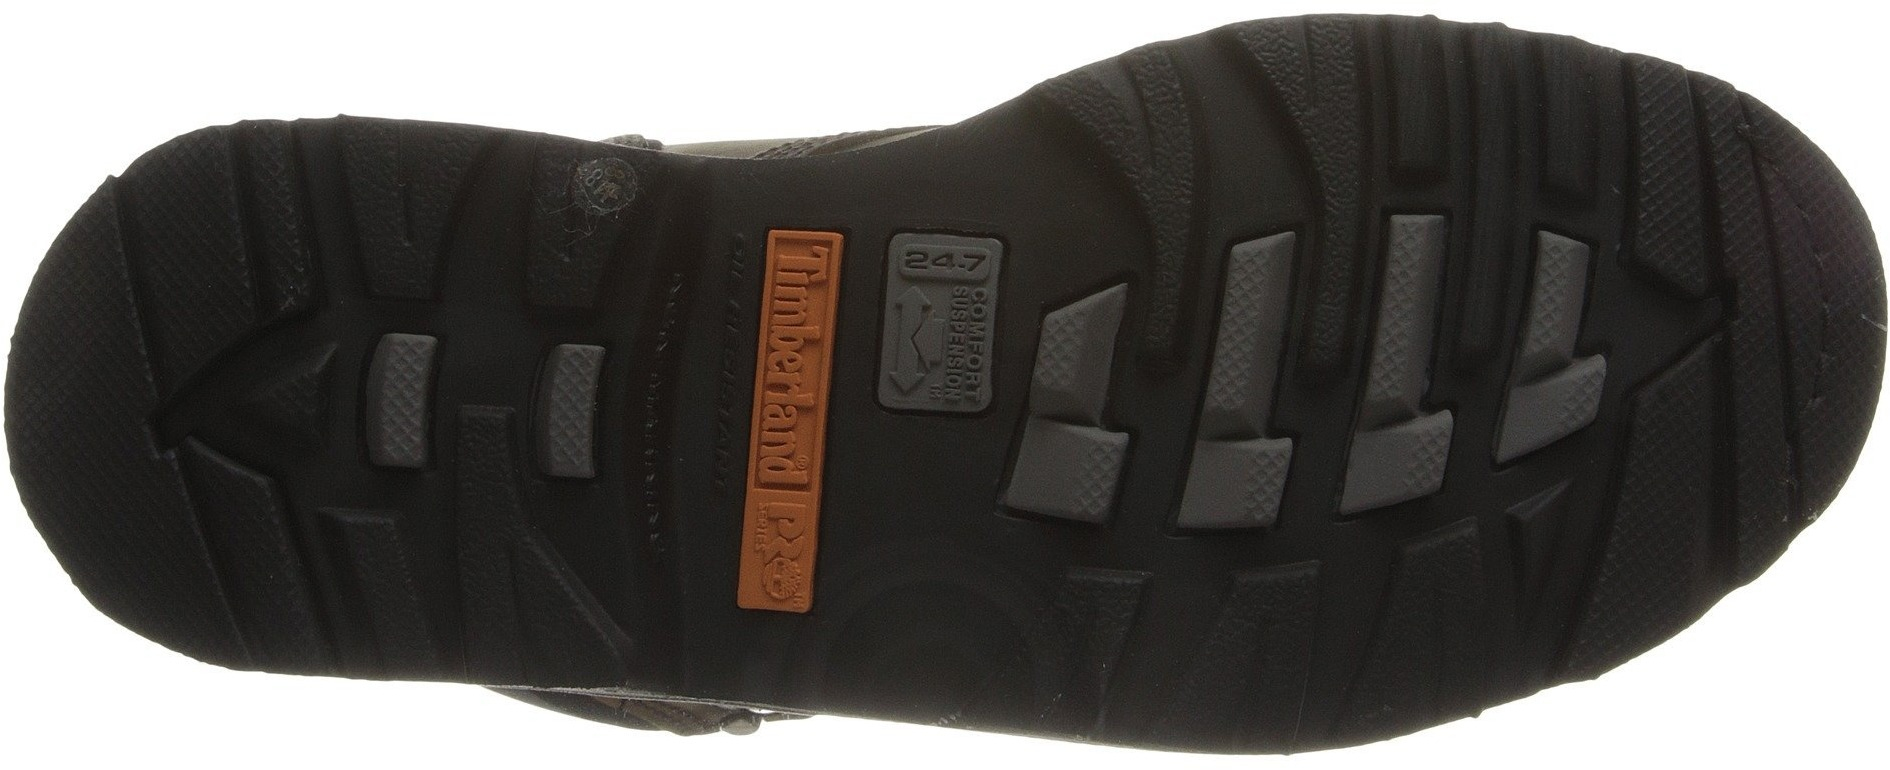chevron: (1145, 542, 1363, 739)
exclude: (620, 155, 774, 696), (434, 681, 839, 764)
other: (69, 201, 265, 384), (128, 484, 319, 649), (1626, 445, 1763, 575), (1732, 312, 1856, 437), (1730, 180, 1850, 299)
quad: (1305, 193, 1657, 521), (837, 213, 1043, 437), (1356, 22, 1527, 195), (315, 315, 479, 484), (480, 321, 632, 487)
text: (758, 240, 843, 315), (750, 374, 824, 446), (758, 307, 830, 372), (745, 437, 814, 504)
